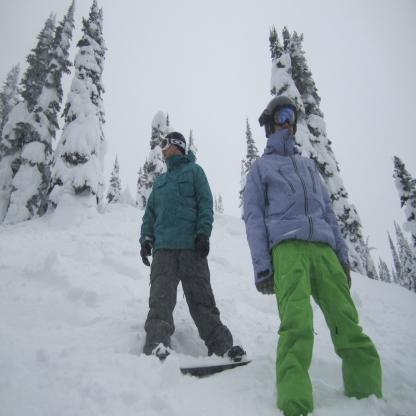Helmet: (259, 92, 298, 137), (160, 132, 188, 156)
